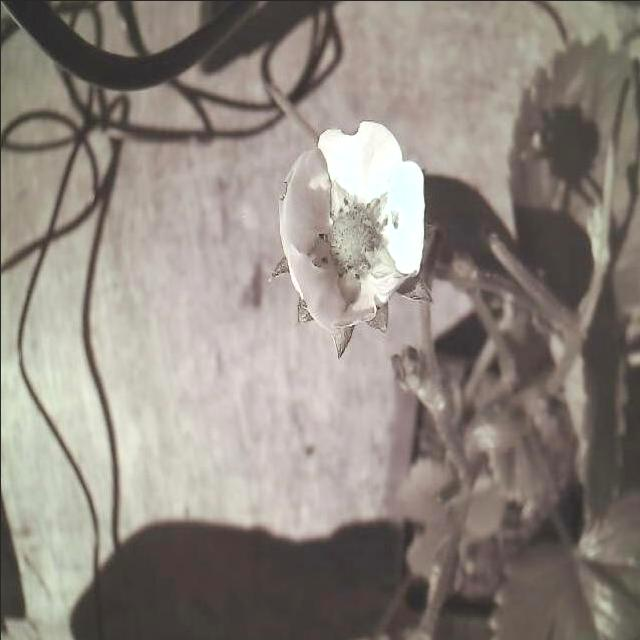flower: (270, 115, 429, 344)
